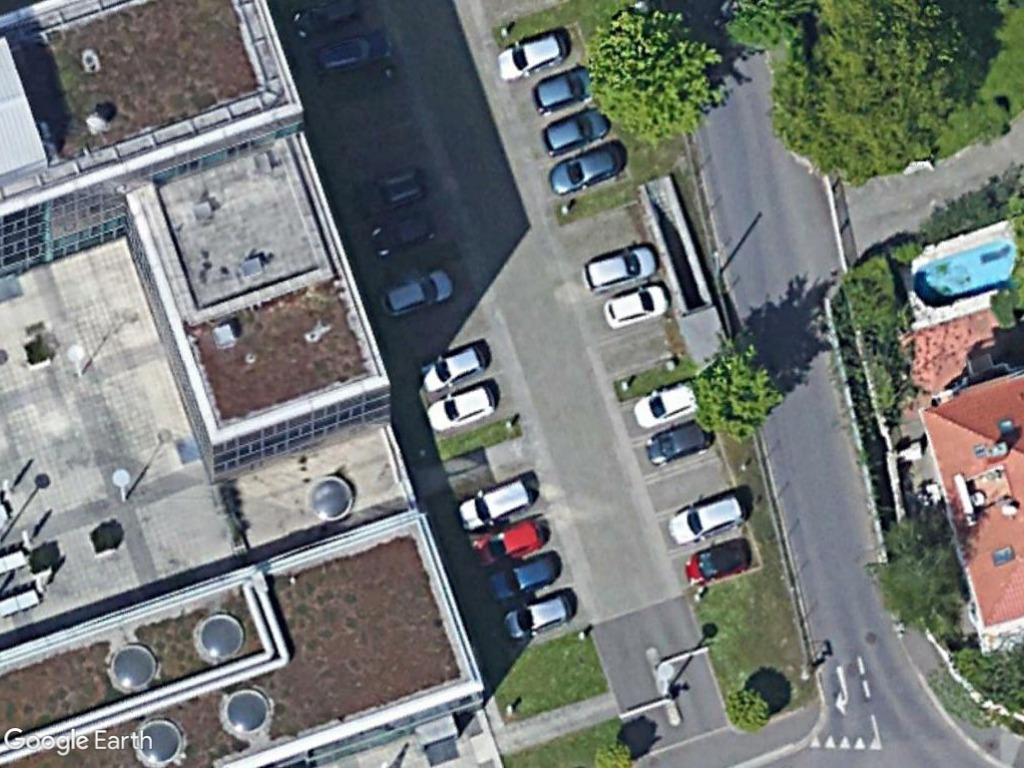car: (307, 26, 398, 81), (453, 474, 536, 534), (545, 141, 628, 200), (664, 492, 747, 549), (375, 266, 458, 321), (493, 28, 571, 85), (499, 587, 577, 644), (581, 242, 661, 296), (484, 551, 560, 606), (472, 515, 547, 570), (422, 380, 498, 434), (539, 105, 614, 159), (681, 535, 755, 589), (528, 62, 601, 115), (367, 208, 440, 261), (640, 416, 714, 467), (631, 378, 702, 431), (599, 280, 672, 330), (416, 344, 488, 394)
